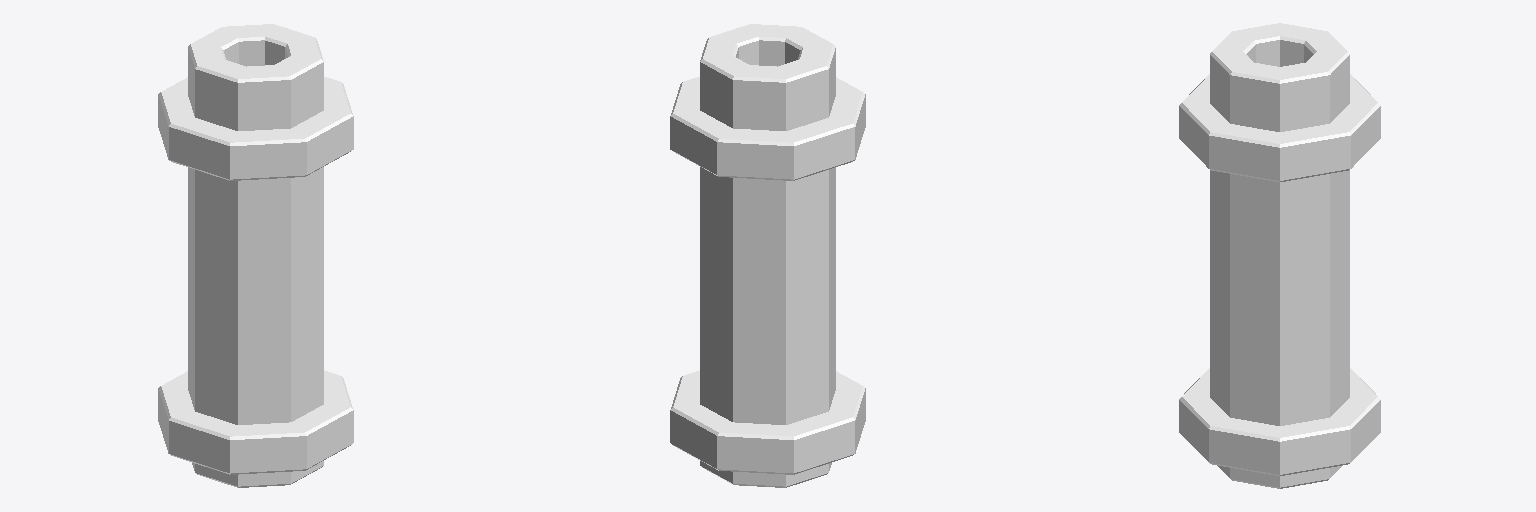
The model's file is Grenade-Type-0.obj.
3 renders of one model, left to right at view 1: azimuth 30°, elevation 25°; view 2: azimuth 150°, elevation 25°; view 3: azimuth 270°, elevation 25°, orthographic.
Parts seen in each view (by area): view 1: Grenade-Type-0; view 2: Grenade-Type-0; view 3: Grenade-Type-0.
Boxes of the visible parts, x1,y1,x2,y2 form: Grenade-Type-0: [158, 24, 353, 487]; Grenade-Type-0: [670, 24, 865, 487]; Grenade-Type-0: [1179, 23, 1380, 488].
Bounding box in the file's own units: 0.7165 × 1.6 × 0.7165.